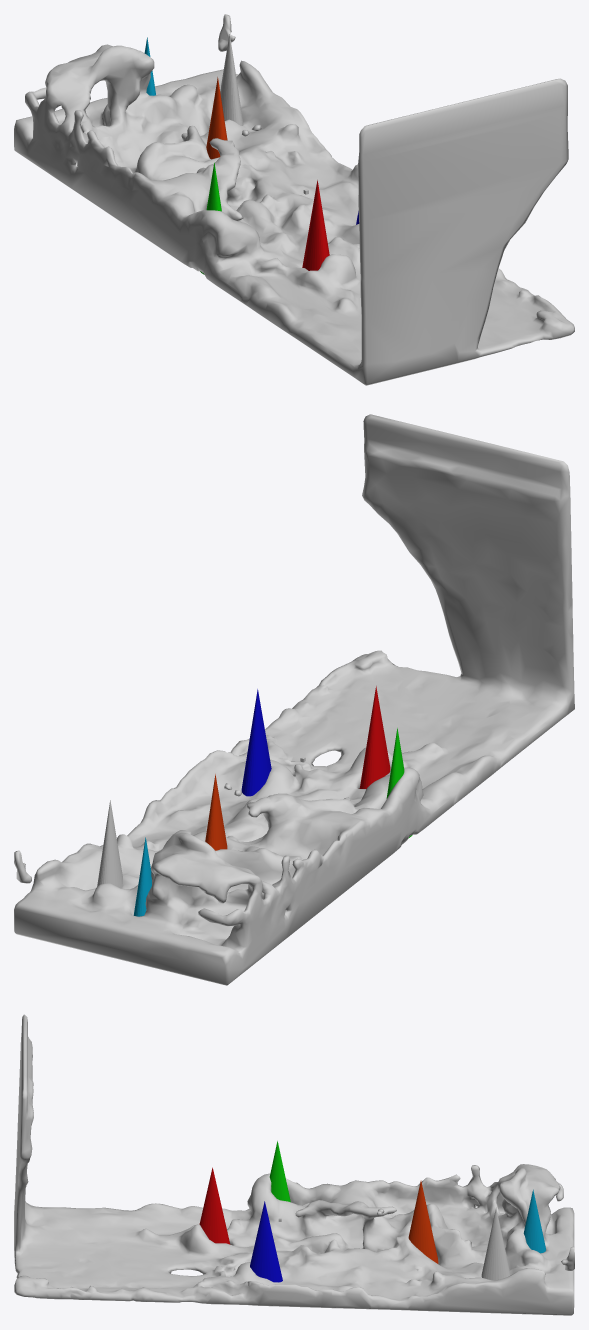
3 renders of one model, top to bottom at view 1: azimuth 30°, elevation 25°; view 2: azimuth 150°, elevation 25°; view 3: azimuth 270°, elevation 25°, orthographic. The views are drawn at different scales.
Parts seen in each view (by area): view 1: Liquid_Domain, 円錐.001, 円錐, 円錐.004; view 2: Liquid_Domain, 円錐.002, 円錐.001, 円錐, 円錐.004, 円錐.005; view 3: Liquid_Domain, 円錐.002, 円錐.001, 円錐.004, 円錐, 円錐.005, 円錐.003.
Part boxes in pixels (box(x1,y1,x2,y2)): Liquid_Domain: box(14, 14, 574, 385); 円錐.001: box(302, 180, 329, 270); 円錐: box(220, 34, 243, 125); 円錐.004: box(206, 77, 227, 159); Liquid_Domain: box(14, 414, 574, 985); 円錐.002: box(241, 689, 271, 796); 円錐.001: box(359, 686, 390, 788); 円錐: box(97, 800, 122, 888); 円錐.004: box(205, 774, 227, 850); 円錐.005: box(133, 837, 151, 916); Liquid_Domain: box(14, 1014, 574, 1315); 円錐.002: box(250, 1201, 282, 1282); 円錐.001: box(199, 1167, 230, 1244); 円錐.004: box(408, 1180, 438, 1263); 円錐: box(481, 1207, 510, 1280); 円錐.005: box(523, 1189, 545, 1253); 円錐.003: box(269, 1141, 290, 1202).
Size of the model in its own units: 129 by 158 by 362.
